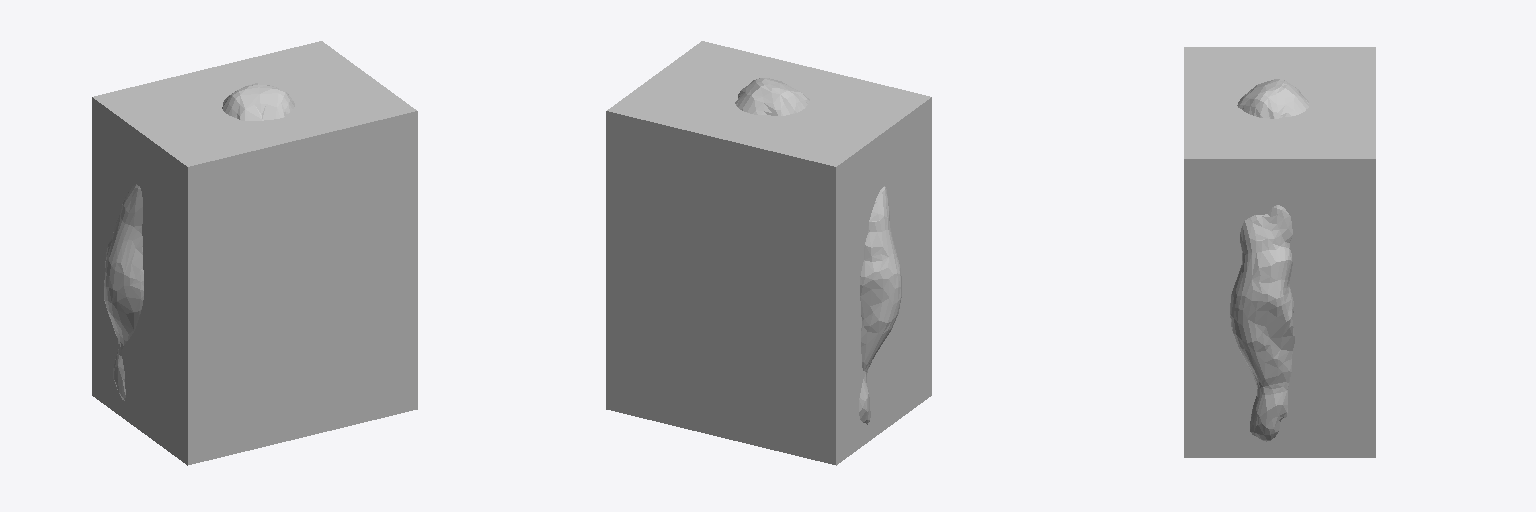
Rendered from MagmaElemental_1_000021.obj.
3 renders of one model, left to right at view 1: azimuth 30°, elevation 25°; view 2: azimuth 150°, elevation 25°; view 3: azimuth 270°, elevation 25°, orthographic.
Parts seen in each view (by area): view 1: Cube, Elemental_FireGolem; view 2: Cube, Elemental_FireGolem; view 3: Cube, Elemental_FireGolem.
Part boxes in pixels (left/top/right/bottom): Cube: left=92, top=41, right=417, bottom=465; Elemental_FireGolem: left=104, top=83, right=294, bottom=400; Cube: left=606, top=41, right=931, bottom=465; Elemental_FireGolem: left=735, top=78, right=901, bottom=424; Cube: left=1184, top=47, right=1375, bottom=457; Elemental_FireGolem: left=1230, top=79, right=1308, bottom=441.
Bounding box in the file's own units: 3.37 × 3.91 × 1.99.